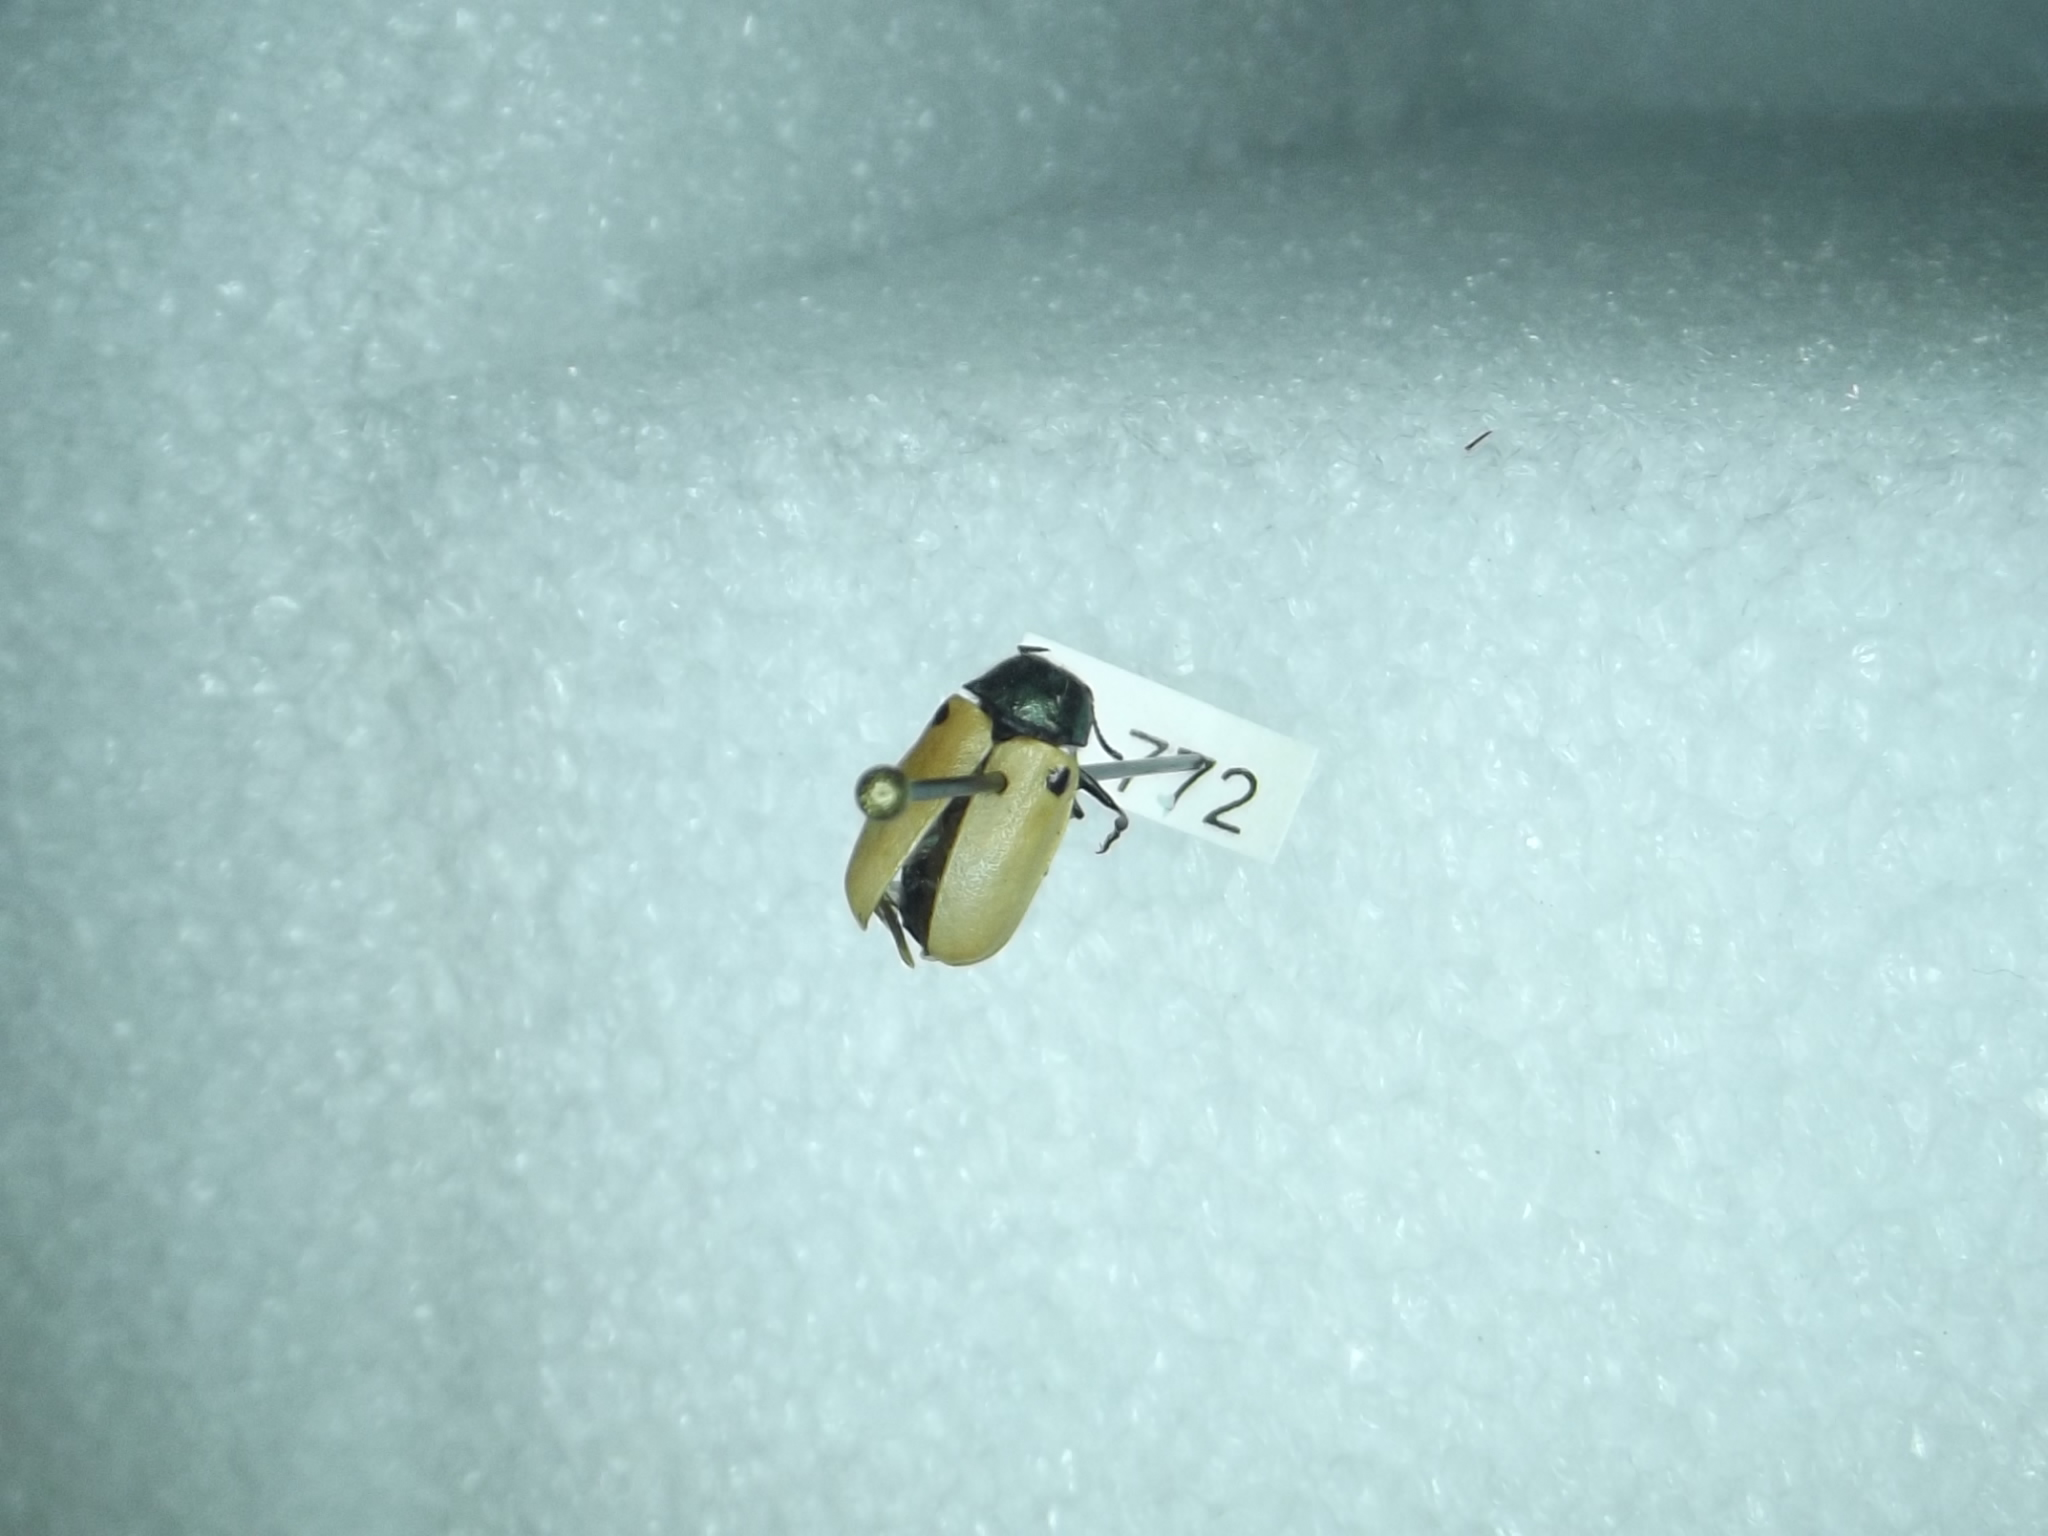Labidostomis_propinqua: (834, 652, 1130, 971)
